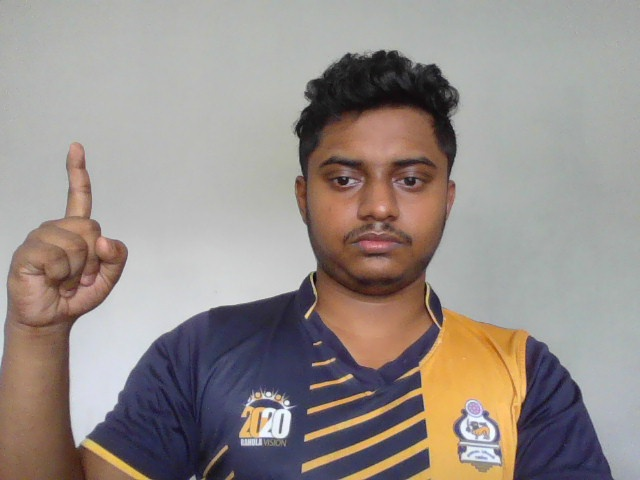Me: (4, 142, 130, 329)
